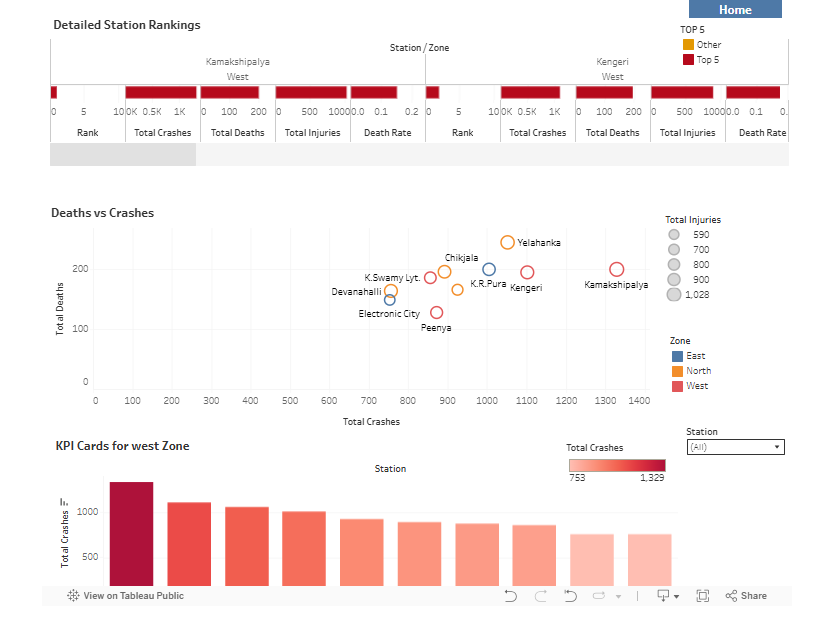

This screenshot's page, from the dashboard's own definition file:
{"tool":"tableau","page":{"name":"3.Hotspot Dashboard","canvas":[1000,800],"ordinal":2},"visuals":[{"type":"dashboard-object","box":[862,18,125,25]},{"type":"worksheet","title":"3.Detailed Station Rankings","mark":"Automatic","cols":["STATION","ZONE","Calculation_1770477672045985793","TOTAL_CRASHES","TOTAL_DEATHS","TOTAL_INJURIES","Calculation_1770477672045387776"],"box":[11,33,985,259]},{"type":"legend","title":"3.Detailed Station Rankings","param":"[federated.1v9ntvm1iibri40zvpg350ati2cj].[usr:Calculation_1770477672046223362:nk","box":[851,49,140,76]},{"type":"worksheet","title":"3.Deaths vs Crashes","mark":"Automatic","rows":["TOTAL_DEATHS"],"cols":["TOTAL_CRASHES"],"box":[8,284,803,310]},{"type":"legend","title":"3.Deaths vs Crashes","param":"[federated.1v9ntvm1iibri40zvpg350ati2cj].[sum:TOTAL_INJURIES:qk]","box":[831,302,140,151]},{"type":"legend","title":"3.Deaths vs Crashes","param":"[federated.1v9ntvm1iibri40zvpg350ati2cj].[none:ZONE:nk]","box":[837,464,140,101]},{"type":"legend","title":"3.Top 10 Most Dangerous Stations","param":"[federated.1v9ntvm1iibri40zvpg350ati2cj].[sum:TOTAL_CRASHES:qk]","box":[699,607,136,77]}]}

Visuals, with their boxes on the page's 1000x800 design canvas (x1, y1, x2, y2). These are canvas units, not pixel positions in the 826x622 screenshot, which may show the page scaled, cropped or inside an application window:
dashboard-object: pyautogui.locateOnScreen(862, 18, 987, 43)
"3.Detailed Station Rankings" worksheet: pyautogui.locateOnScreen(11, 33, 996, 292)
"3.Detailed Station Rankings" legend: pyautogui.locateOnScreen(851, 49, 991, 125)
"3.Deaths vs Crashes" worksheet: pyautogui.locateOnScreen(8, 284, 811, 594)
"3.Deaths vs Crashes" legend: pyautogui.locateOnScreen(831, 302, 971, 453)
"3.Deaths vs Crashes" legend: pyautogui.locateOnScreen(837, 464, 977, 565)
"3.Top 10 Most Dangerous Stations" legend: pyautogui.locateOnScreen(699, 607, 835, 684)
